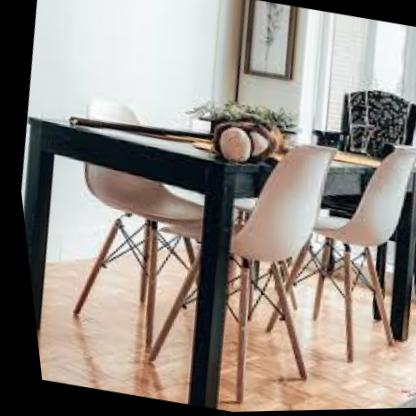Dining Table: (3, 24, 416, 416)
Wooden floor: (28, 318, 176, 404)
